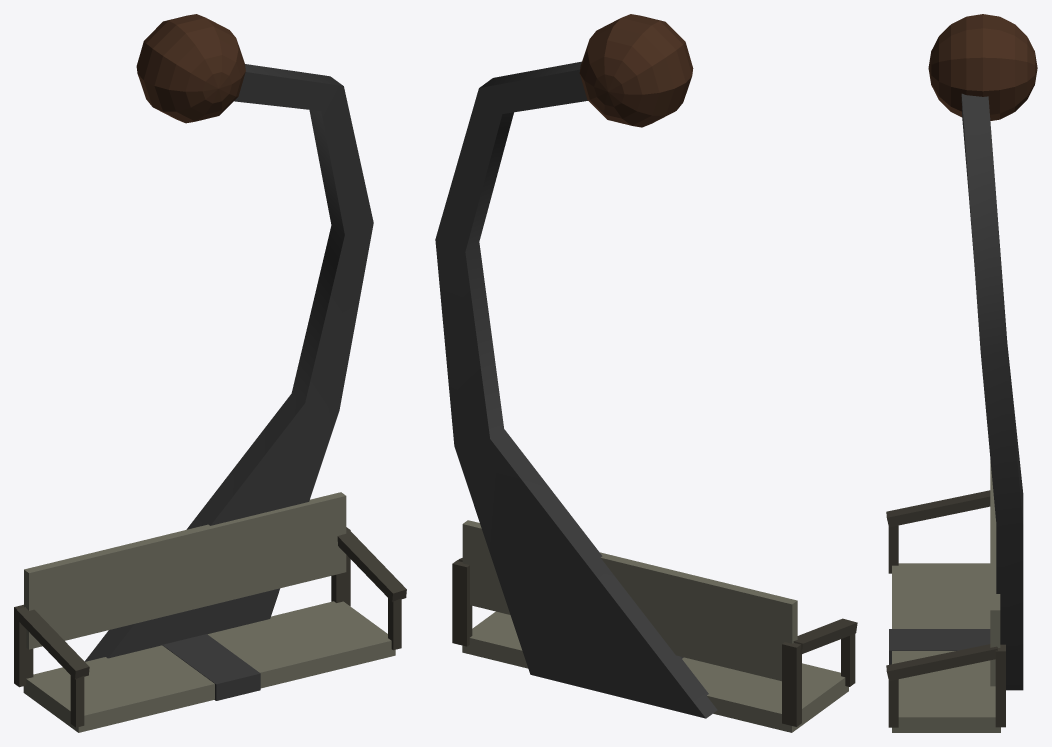
The model's file is LiftChair.fbx.
The picture shows the model from 3 angles, left to right: view 1: azimuth 30°, elevation 25°; view 2: azimuth 150°, elevation 25°; view 3: azimuth 270°, elevation 25°; orthographic projection. The views are drawn at different scales.
Visible parts, largest first — view 1: pSphere2; view 2: pSphere2; view 3: pSphere2.
Boxes of the visible parts, x1,y1,x2,y2 form: pSphere2: (14,14,406,732); pSphere2: (435,14,857,732); pSphere2: (886,14,1037,732).
Size of the model in its own units: 2.2 by 3.85 by 0.8317.
